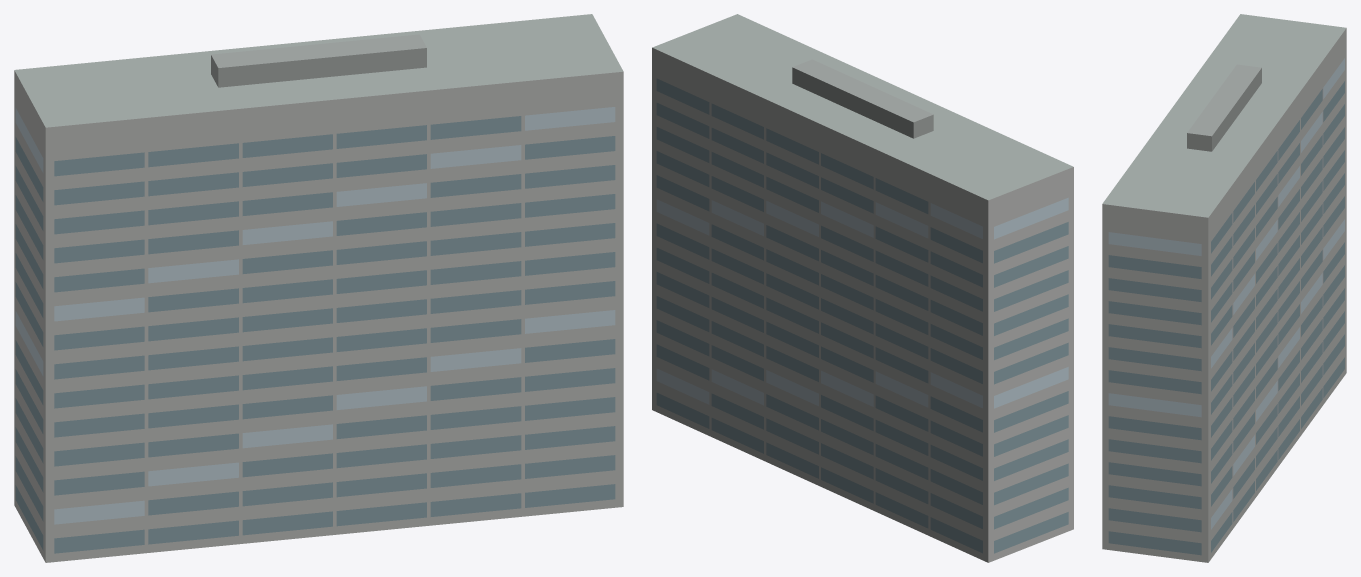
File: fallback-olympic-park-foreon-320.glb
The picture shows the model from 3 angles, left to right: view 1: azimuth 30°, elevation 25°; view 2: azimuth 150°, elevation 25°; view 3: azimuth 270°, elevation 25°; orthographic projection. The views are drawn at different scales.
Parts seen in each view (by area): view 1: fallback-olympic-park-foreon-320; view 2: fallback-olympic-park-foreon-320; view 3: fallback-olympic-park-foreon-320.
Part boxes in pixels (box(x1,y1,x2,y2)): fallback-olympic-park-foreon-320: box(14, 14, 623, 562); fallback-olympic-park-foreon-320: box(652, 14, 1073, 562); fallback-olympic-park-foreon-320: box(1102, 14, 1346, 562).
Size of the model in its own units: 57.92 by 47.81 by 29.36.
